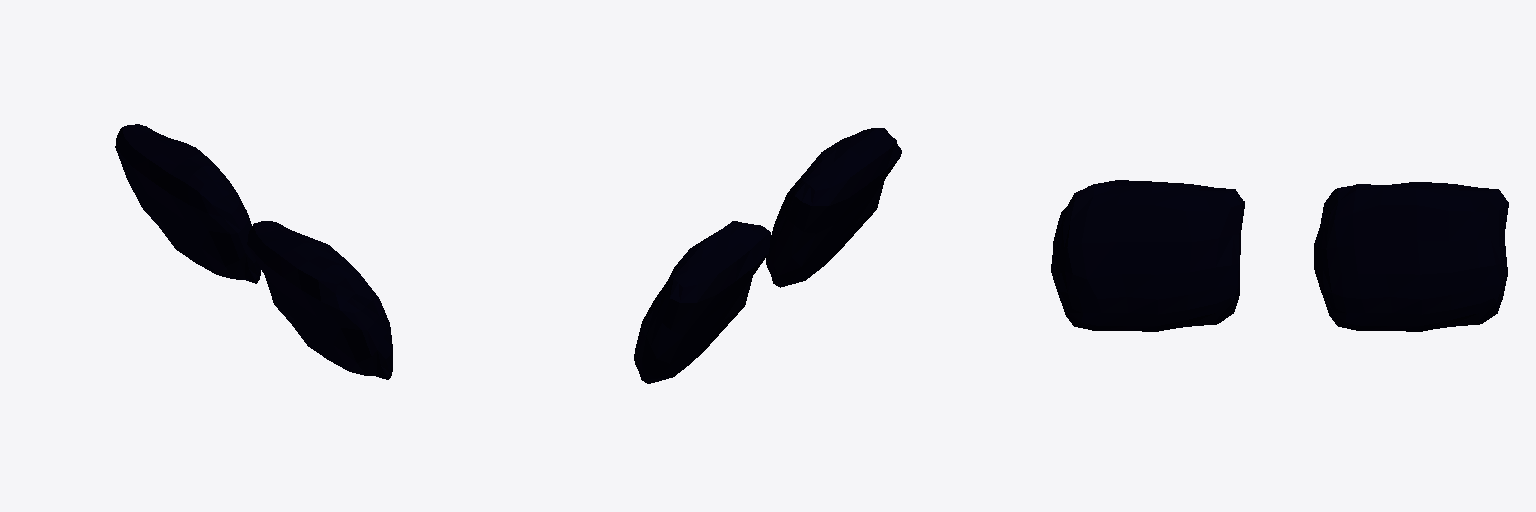
Rendered from pillows.obj.
3 renders of one model, left to right at view 1: azimuth 30°, elevation 25°; view 2: azimuth 150°, elevation 25°; view 3: azimuth 270°, elevation 25°, orthographic.
Visible parts, largest first — view 1: Plane.004; view 2: Plane.004; view 3: Plane.004.
Boxes of the visible parts, box(x1,y1,x2,y2) form: Plane.004: box(115, 124, 392, 379); Plane.004: box(634, 128, 901, 383); Plane.004: box(1051, 180, 1508, 331).
Size of the model in its own units: 0.5197 by 0.8198 by 2.59.